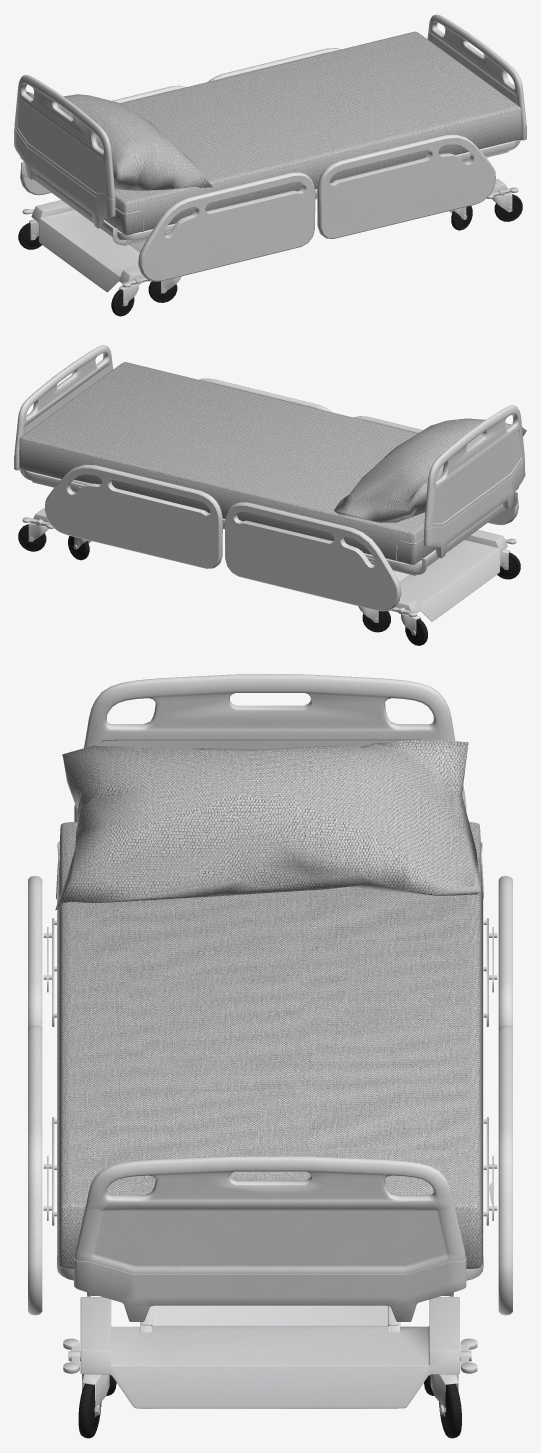
Rendered from SM_检查室_床_01.fbx.
3 views of the same model, one above another, from view 1: azimuth 30°, elevation 25°; view 2: azimuth 150°, elevation 25°; view 3: azimuth 270°, elevation 25° (orthographic). The views are drawn at different scales.
Parts seen in each view (by area): view 1: SM_检查室_床_01; view 2: SM_检查室_床_01; view 3: SM_检查室_床_01.
Part boxes in pixels (x1=…): SM_检查室_床_01: x1=14, y1=14, x2=526, y2=316; SM_检查室_床_01: x1=14, y1=345, x2=526, y2=645; SM_检查室_床_01: x1=28, y1=674, x2=512, y2=1438.
Size of the model in its own units: 1946 by 833 by 981.
